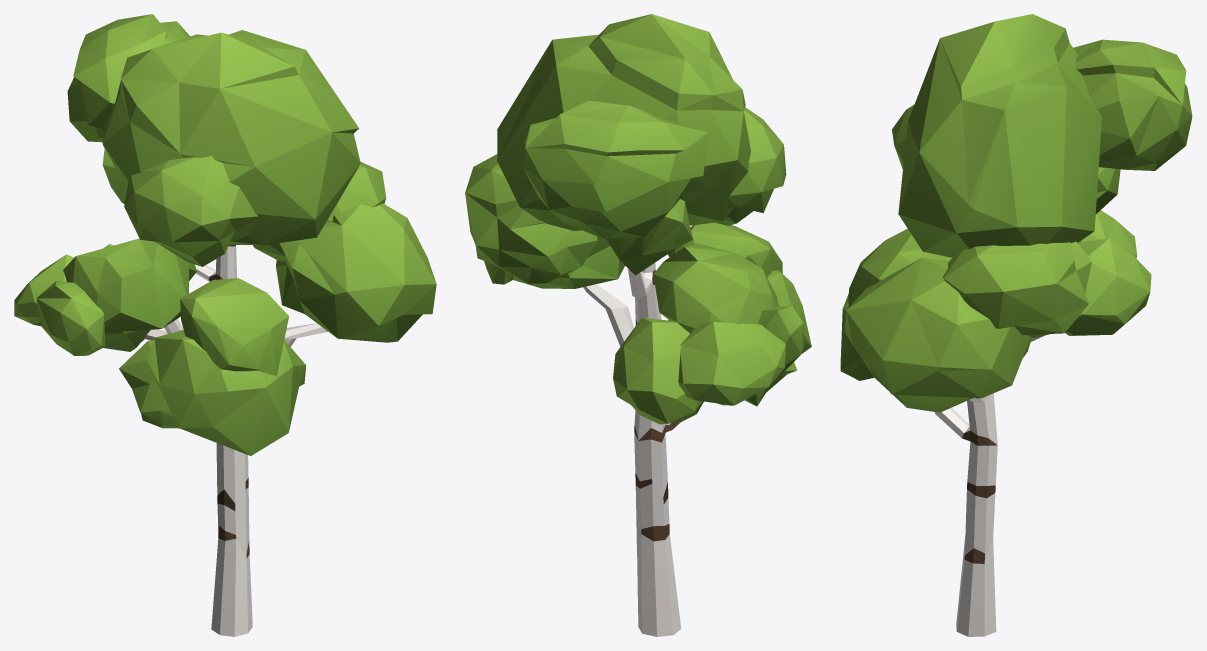
Rendered from dm11.aspen.v1.01.glb.
3 views of the same model, side by side, from view 1: azimuth 30°, elevation 25°; view 2: azimuth 150°, elevation 25°; view 3: azimuth 270°, elevation 25° (orthographic). The views are drawn at different scales.
Parts seen in each view (by area): view 1: PP_Birch_Tree_05.001_PP_Standard_Material_0; view 2: PP_Birch_Tree_05.001_PP_Standard_Material_0; view 3: PP_Birch_Tree_05.001_PP_Standard_Material_0.
Part boxes in pixels (x1,y1,x2,y2): PP_Birch_Tree_05.001_PP_Standard_Material_0: (14, 14, 436, 636); PP_Birch_Tree_05.001_PP_Standard_Material_0: (465, 14, 811, 636); PP_Birch_Tree_05.001_PP_Standard_Material_0: (840, 14, 1192, 636).
Bounding box in the file's own units: 4.99 × 8.25 × 4.34.
1 material, 1 textured.
